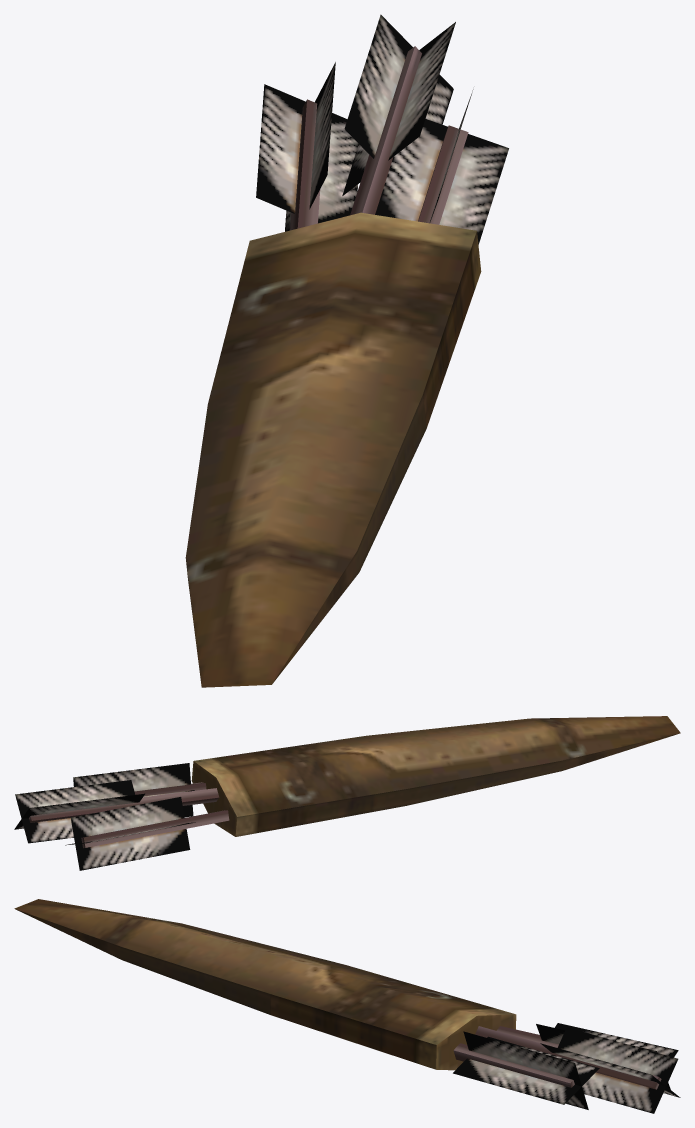
3 renders of one model, top to bottom at view 1: azimuth 30°, elevation 25°; view 2: azimuth 150°, elevation 25°; view 3: azimuth 270°, elevation 25°, orthographic. The views are drawn at different scales.
Parts seen in each view (by area): view 1: e_nb_0001_none; view 2: e_nb_0001_none; view 3: e_nb_0001_none.
Boxes of the visible parts, bbox=[...] form: e_nb_0001_none: bbox=[185, 14, 508, 687]; e_nb_0001_none: bbox=[14, 716, 680, 870]; e_nb_0001_none: bbox=[14, 899, 680, 1113].
Size of the model in its own units: 60.16 by 8.28 by 76.98.
Materials: 1 (1 with a texture image).
